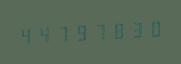eight: (107, 19, 124, 42)
four: (17, 23, 34, 46), (35, 22, 52, 45)
nine: (71, 21, 88, 44)
seven: (53, 21, 70, 45), (89, 20, 106, 43)
three: (125, 18, 142, 41)
zero: (143, 17, 160, 40)
